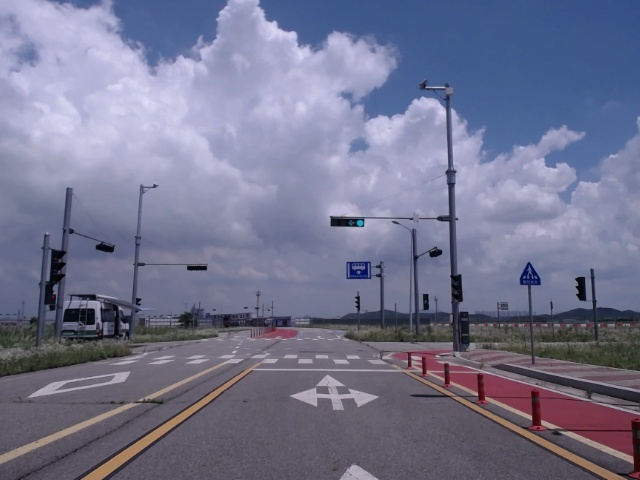all_green_4: (329, 217, 365, 228)
